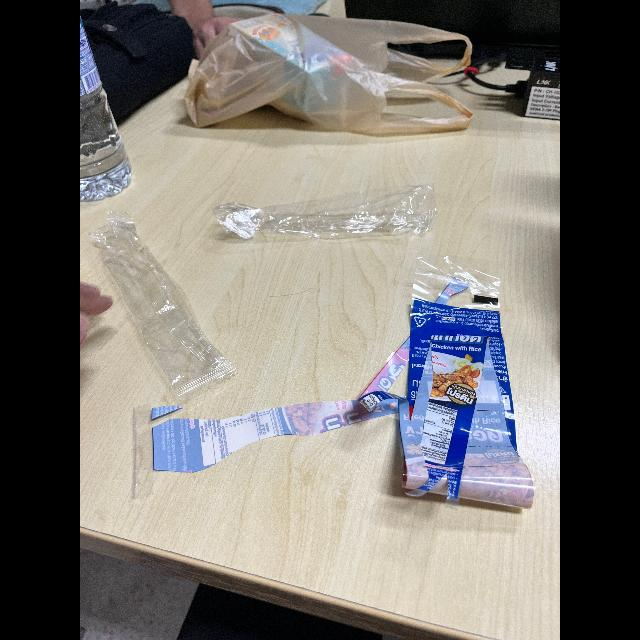scrap_plastic: (372, 260, 532, 528), (85, 208, 235, 398), (213, 176, 443, 254)
